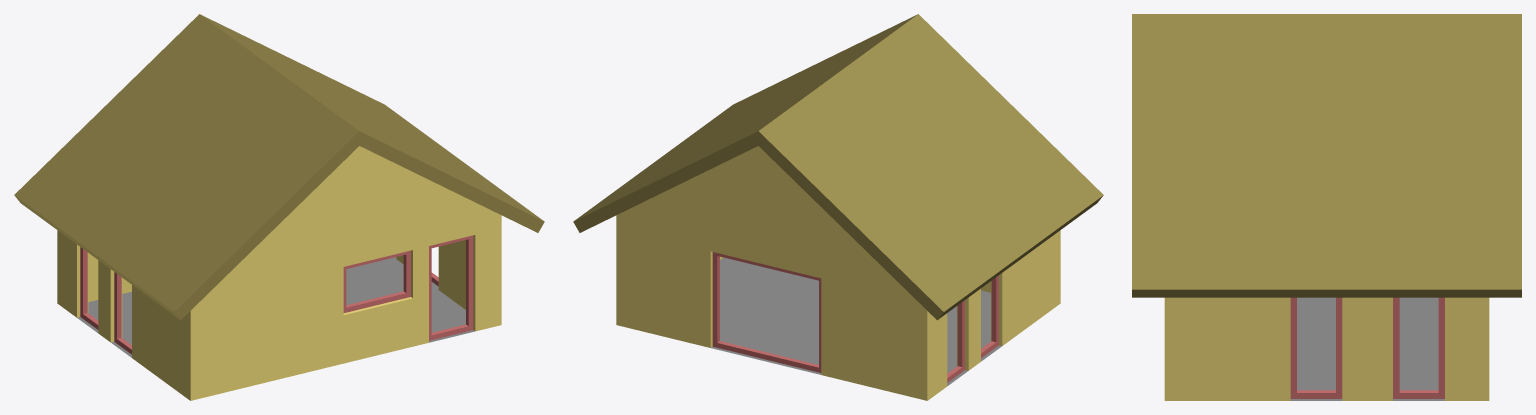
Rendered from result.glb.
3 renders of one model, left to right at view 1: azimuth 30°, elevation 25°; view 2: azimuth 150°, elevation 25°; view 3: azimuth 270°, elevation 25°, orthographic. The views are drawn at different scales.
Parts seen in each view (by area): view 1: 2f47d759-a076-4efc-b310-3890967eafcc__undefined (×2), 805683da-7e16-42ad-ba93-7bbf029bd4d5__undefined, dff9c103-c8e3-4cf0-97cd-12604375fa35__Plane_8, ab0574cf-9193-48a6-a74c-e9d07c669c6b__Box, 2237e29c-684b-4aed-b994-3348cd73e1a4__Box_3, 8a2af26c-8745-438c-8289-376d0d6d4dbf__Box_15, 427b606d-d89e-44bb-94b1-0ddda6471428__Box_12; view 2: 2f47d759-a076-4efc-b310-3890967eafcc__undefined (×2), 805683da-7e16-42ad-ba93-7bbf029bd4d5__undefined, dff9c103-c8e3-4cf0-97cd-12604375fa35__Plane_8, ac7aa73a-de09-4ecf-af01-1c253f47e624__Box_9, 427b606d-d89e-44bb-94b1-0ddda6471428__Box_12, 8a2af26c-8745-438c-8289-376d0d6d4dbf__Box_15; view 3: 2f47d759-a076-4efc-b310-3890967eafcc__undefined, 805683da-7e16-42ad-ba93-7bbf029bd4d5__undefined, dff9c103-c8e3-4cf0-97cd-12604375fa35__Plane_8, 470ee4d4-371b-42ba-8509-f0bc6a007cd5__Box_18, 12559101-27b4-471c-8c59-ef30c7b0fd55__Box_21.
Part boxes in pixels (bbox=[...]): 2f47d759-a076-4efc-b310-3890967eafcc__undefined (×2): bbox=[14, 14, 544, 320]; 805683da-7e16-42ad-ba93-7bbf029bd4d5__undefined: bbox=[57, 146, 501, 400]; dff9c103-c8e3-4cf0-97cd-12604375fa35__Plane_8: bbox=[77, 257, 474, 357]; ab0574cf-9193-48a6-a74c-e9d07c669c6b__Box: bbox=[429, 235, 473, 340]; 2237e29c-684b-4aed-b994-3348cd73e1a4__Box_3: bbox=[343, 250, 410, 312]; 8a2af26c-8745-438c-8289-376d0d6d4dbf__Box_15: bbox=[80, 247, 98, 329]; 427b606d-d89e-44bb-94b1-0ddda6471428__Box_12: bbox=[114, 272, 131, 354]; 2f47d759-a076-4efc-b310-3890967eafcc__undefined (×2): bbox=[573, 14, 1103, 320]; 805683da-7e16-42ad-ba93-7bbf029bd4d5__undefined: bbox=[616, 146, 1060, 400]; dff9c103-c8e3-4cf0-97cd-12604375fa35__Plane_8: bbox=[711, 257, 1001, 385]; ac7aa73a-de09-4ecf-af01-1c253f47e624__Box_9: bbox=[712, 252, 821, 372]; 427b606d-d89e-44bb-94b1-0ddda6471428__Box_12: bbox=[981, 275, 998, 357]; 8a2af26c-8745-438c-8289-376d0d6d4dbf__Box_15: bbox=[947, 300, 964, 382]; 2f47d759-a076-4efc-b310-3890967eafcc__undefined: bbox=[1132, 14, 1521, 297]; 805683da-7e16-42ad-ba93-7bbf029bd4d5__undefined: bbox=[1164, 297, 1489, 400]; dff9c103-c8e3-4cf0-97cd-12604375fa35__Plane_8: bbox=[1290, 297, 1444, 400]; 470ee4d4-371b-42ba-8509-f0bc6a007cd5__Box_18: bbox=[1290, 297, 1342, 398]; 12559101-27b4-471c-8c59-ef30c7b0fd55__Box_21: bbox=[1393, 297, 1444, 398].
Bounding box in the file's own units: 803 × 500 × 600.
